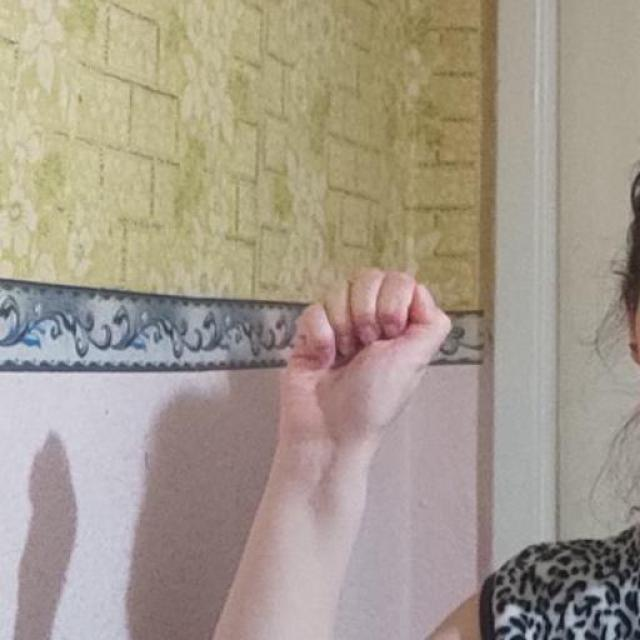hand: (276, 265, 452, 450)
